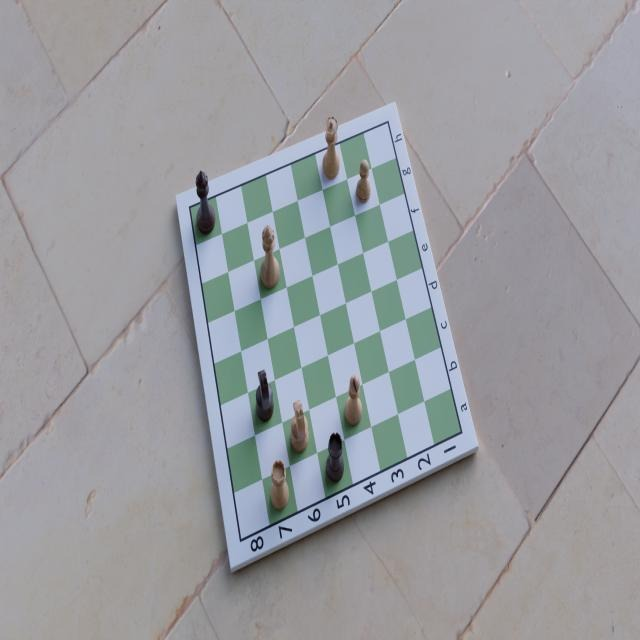black-king: (196, 172, 216, 236)
black-knight: (254, 370, 274, 426)
black-rook: (324, 433, 344, 487)
white-bishop: (345, 373, 365, 430)
white-king: (258, 222, 282, 293)
white-knight: (288, 399, 310, 457)
white-pawn: (357, 158, 375, 209)
white-queen: (319, 116, 340, 184)
white-rook: (268, 457, 291, 514)
